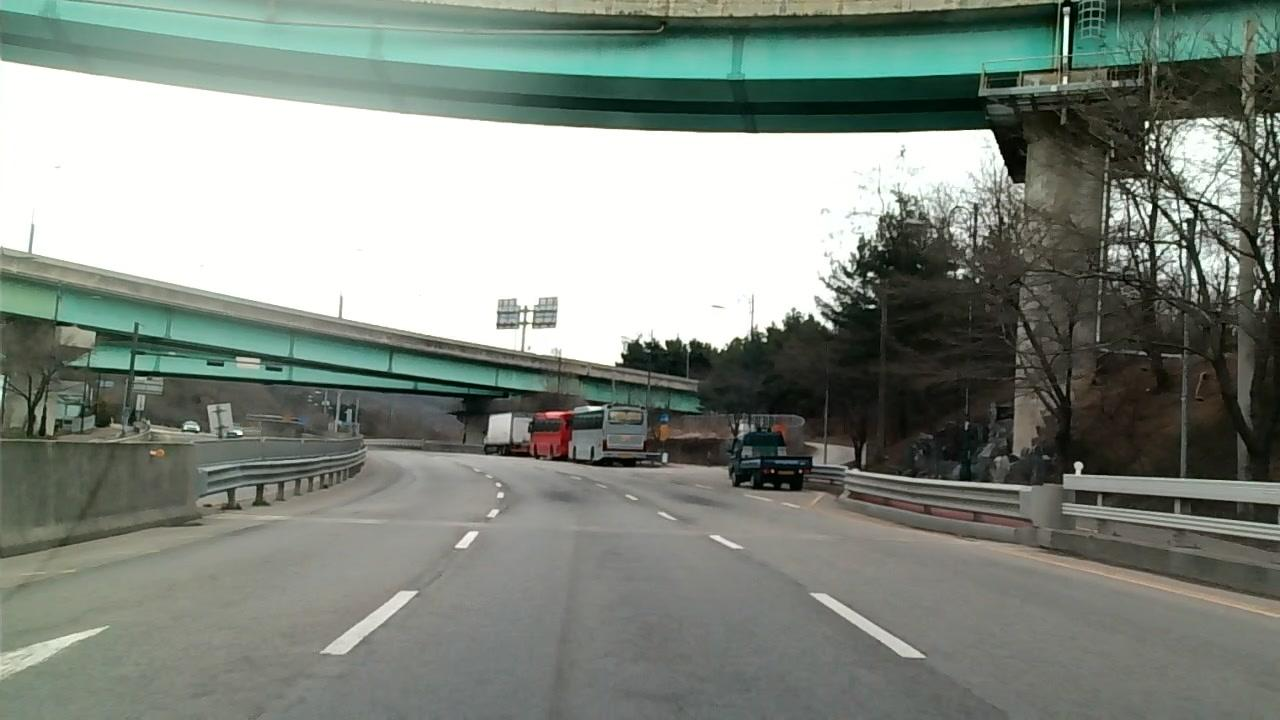banner: (929, 666, 1013, 718), (409, 568, 447, 602)
